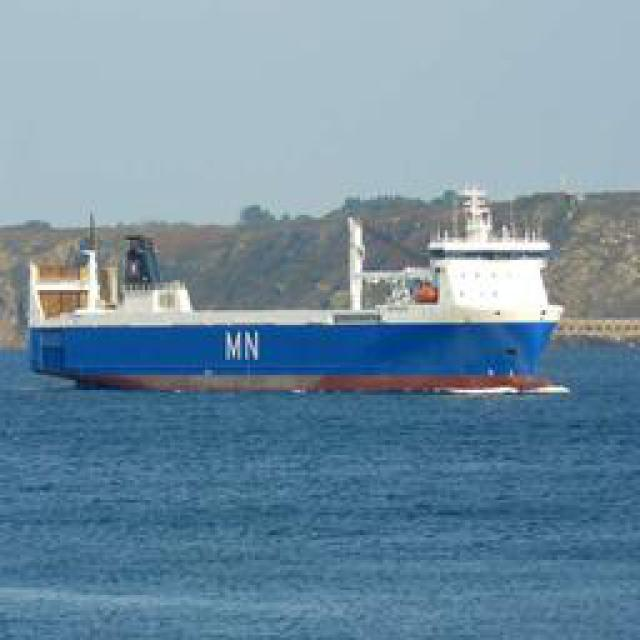Ship: (26, 205, 579, 395)
